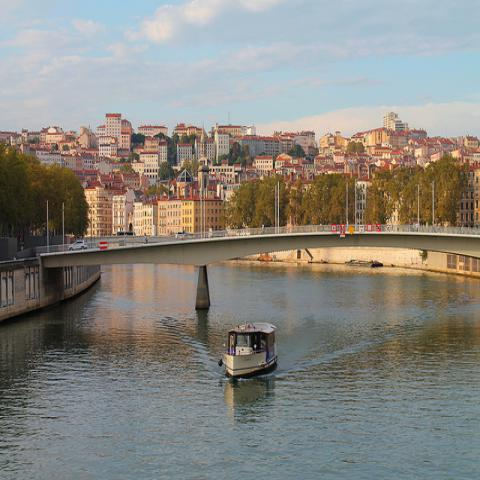car: (68, 241, 87, 250)
